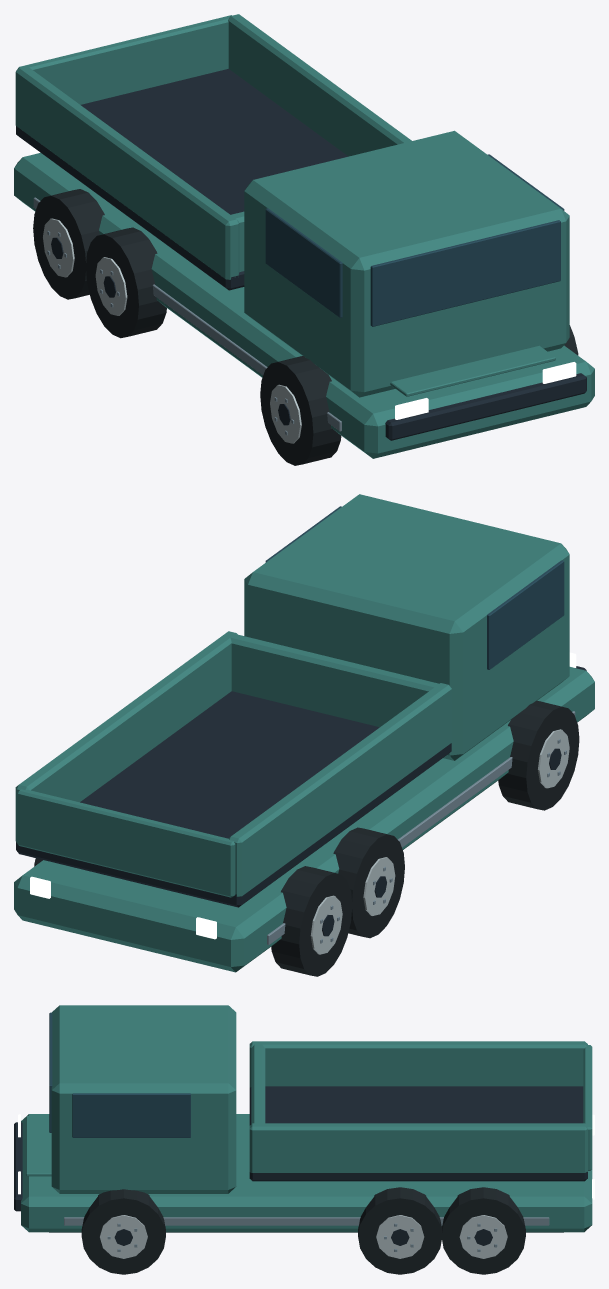
The model's file is road-tipper.lod0.glb.
3 views of the same model, one above another, from view 1: azimuth 30°, elevation 25°; view 2: azimuth 150°, elevation 25°; view 3: azimuth 270°, elevation 25° (orthographic). The views are drawn at different scales.
Parts seen in each view (by area): view 1: road-tipper__body, road-tipper__bed, road-tipper__tailgate, road-tipper__wheel_steer_2_l, road-tipper__wheel_steer_0_l, road-tipper__wheel_steer_1_l; view 2: road-tipper__body, road-tipper__bed, road-tipper__tailgate, road-tipper__wheel_steer_1_l, road-tipper__wheel_steer_0_l, road-tipper__wheel_steer_2_l; view 3: road-tipper__body, road-tipper__bed, road-tipper__wheel_steer_1_r, road-tipper__wheel_steer_2_r, road-tipper__wheel_steer_0_r, road-tipper__tailgate.
Part boxes in pixels (box(x1,y1,x2,y2)): road-tipper__body: box(14, 130, 594, 458); road-tipper__bed: box(15, 14, 411, 290); road-tipper__tailgate: box(18, 15, 231, 104); road-tipper__wheel_steer_2_l: box(86, 227, 166, 338); road-tipper__wheel_steer_0_l: box(260, 356, 341, 465); road-tipper__wheel_steer_1_l: box(33, 189, 104, 299); road-tipper__body: box(14, 494, 594, 972); road-tipper__bed: box(15, 631, 451, 907); road-tipper__tailgate: box(17, 789, 235, 897); road-tipper__wheel_steer_1_l: box(271, 866, 352, 976); road-tipper__wheel_steer_0_l: box(498, 700, 579, 810); road-tipper__wheel_steer_2_l: box(333, 827, 404, 938); road-tipper__body: box(14, 1005, 594, 1232); road-tipper__bed: box(249, 1041, 587, 1181); road-tipper__wheel_steer_1_r: box(441, 1187, 525, 1274); road-tipper__wheel_steer_2_r: box(358, 1187, 442, 1274); road-tipper__wheel_steer_0_r: box(81, 1189, 165, 1274); road-tipper__tailgate: box(583, 1045, 592, 1170).
Bounding box in the file's own units: 2.85 × 2.25 × 6.61.
